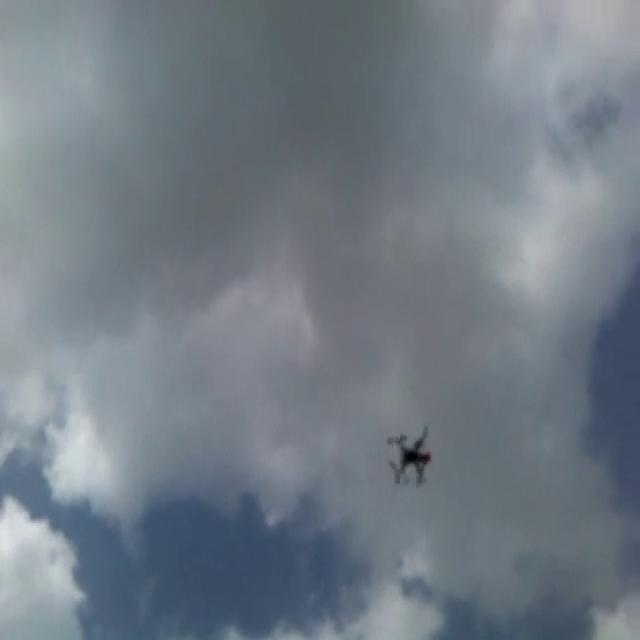drone: (386, 420, 433, 494)
